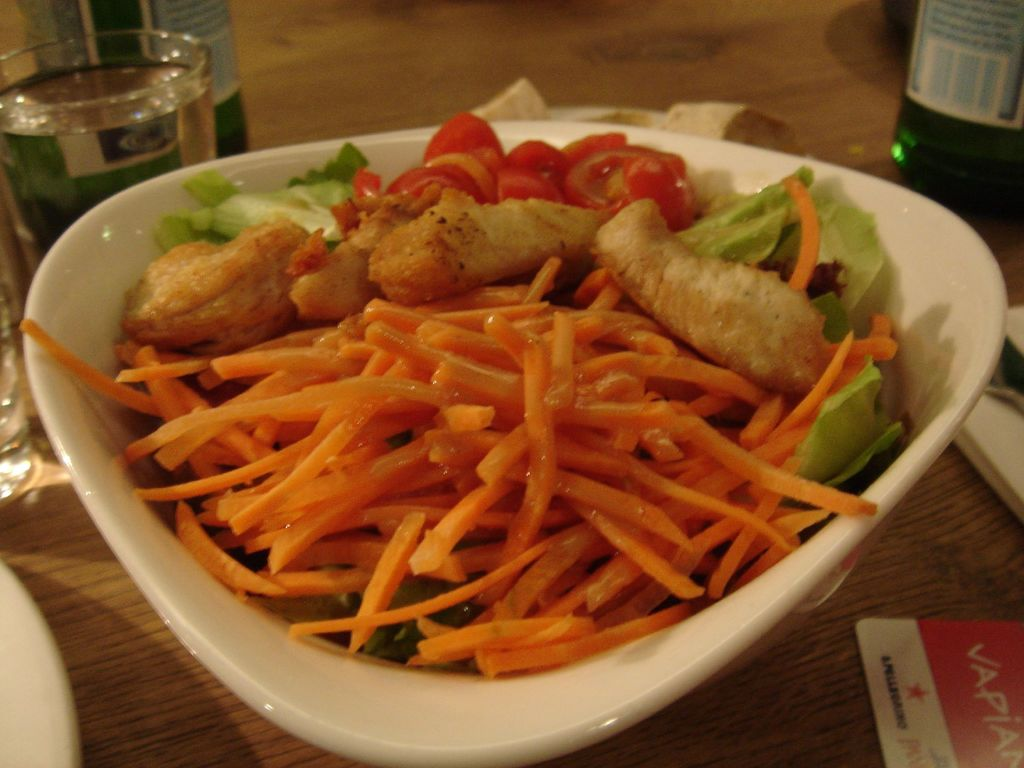salad: (24, 108, 902, 685)
